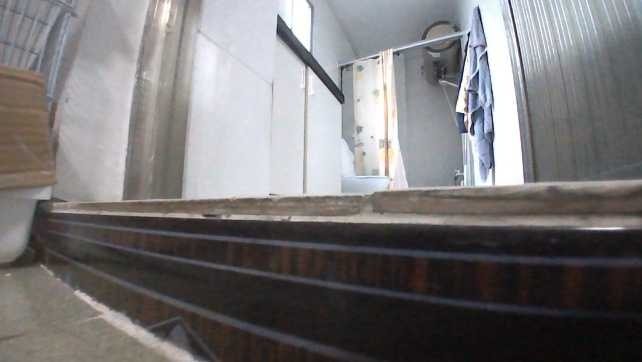door_sill: (30, 195, 640, 360)
toilet: (339, 135, 392, 194)
